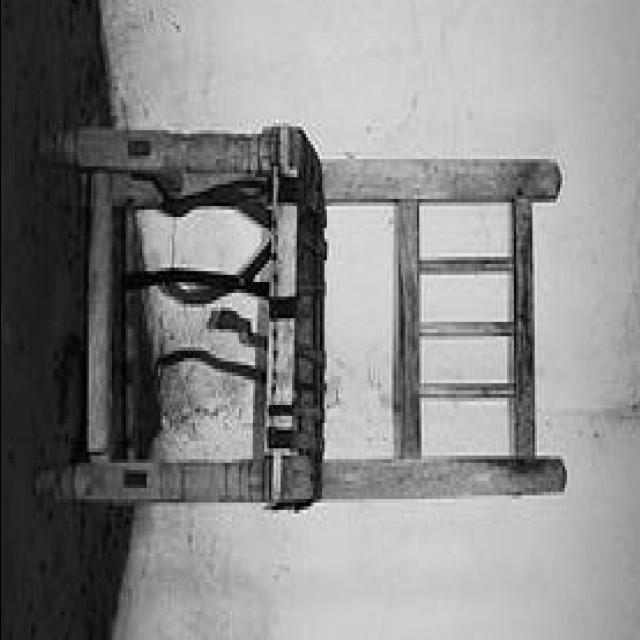chair: (35, 122, 564, 516)
